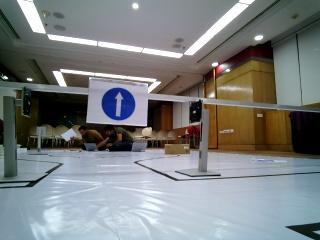straight: (90, 77, 147, 127)
